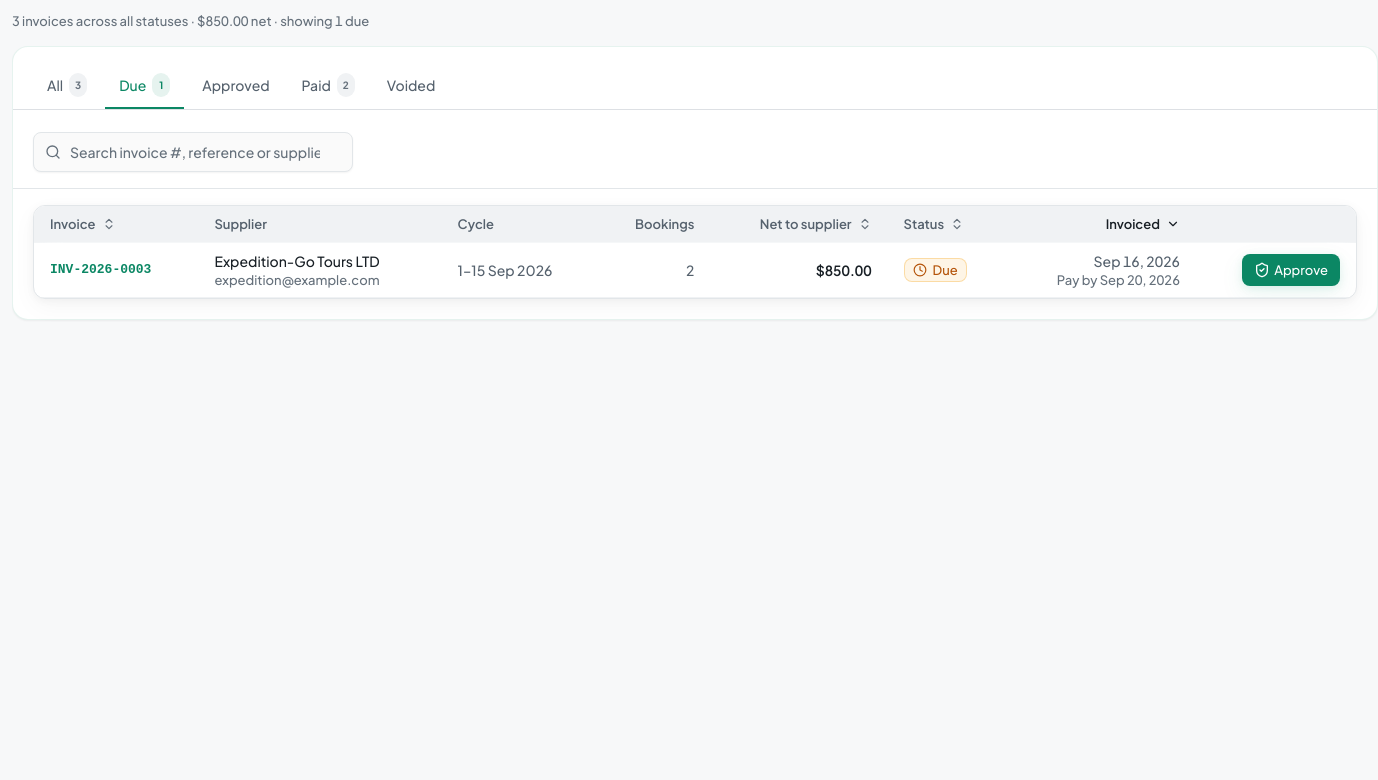
it: InvoicesTab — approving (maker–checker) › derives the commission label from the invoice's frozen numbers (15% post-change)
expect the text "INV-2026-0003" is shown: met, box [50,262,151,277]
Step 1. Click the text "INV-2026-0003" → (695, 271), box [34,243,1356,298]
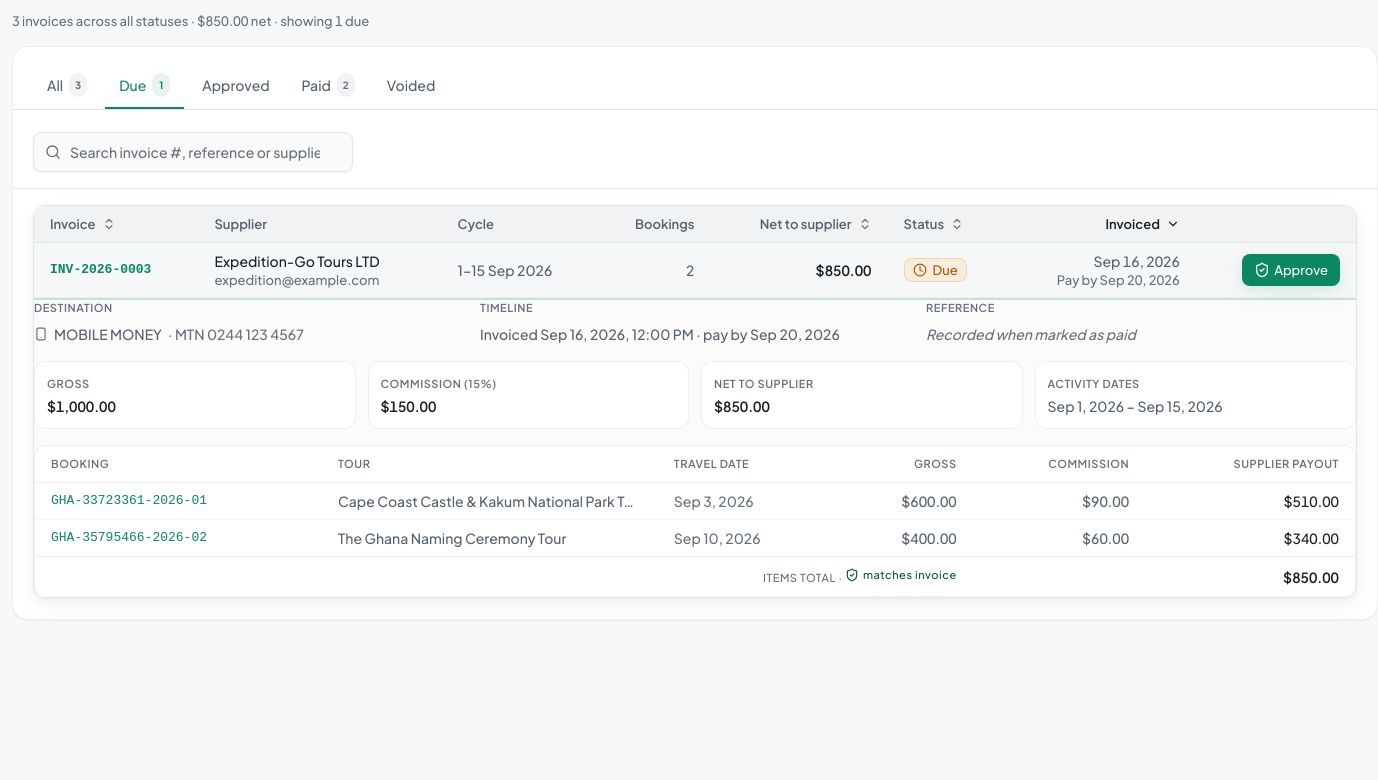
expect the text "Commission (15%)" is shown: met, box [380,377,497,390]
